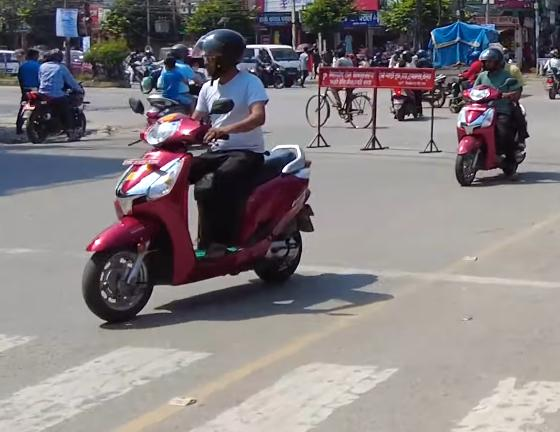scooter: (83, 106, 315, 334), (450, 76, 534, 183)
